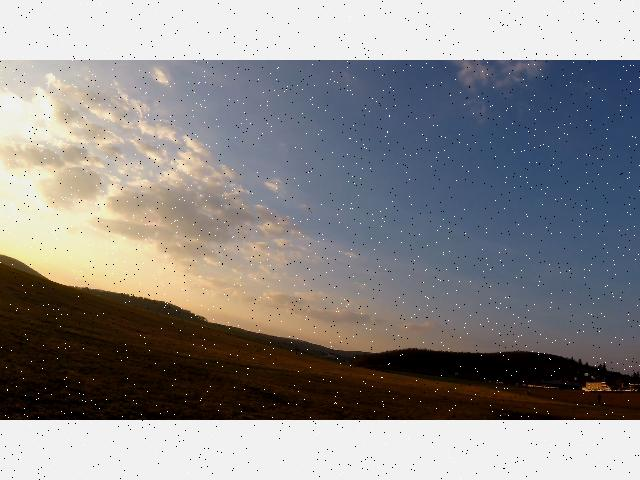Anti-Drone: (304, 203, 318, 214)
